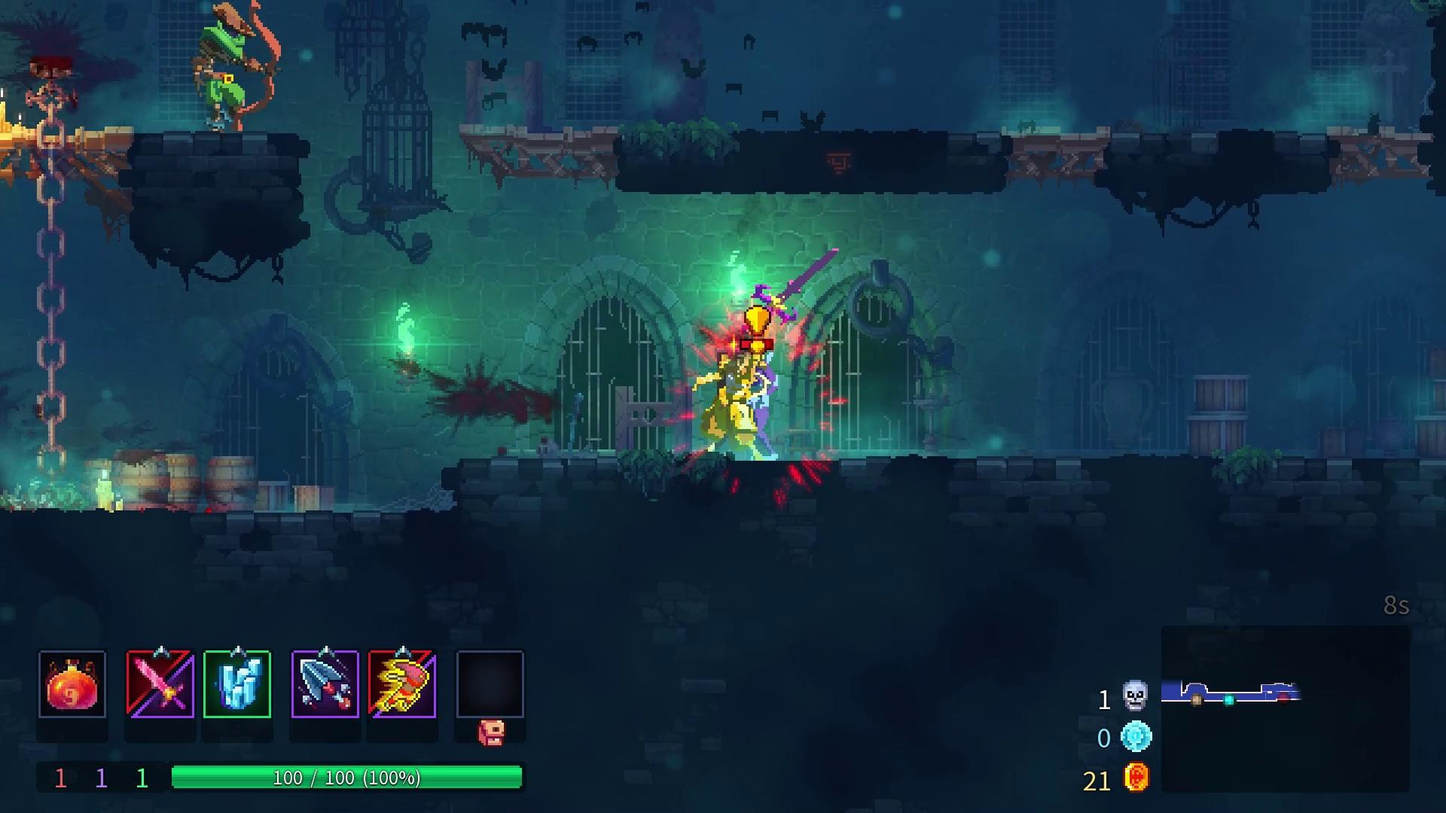gamer: (685, 305, 770, 460)
